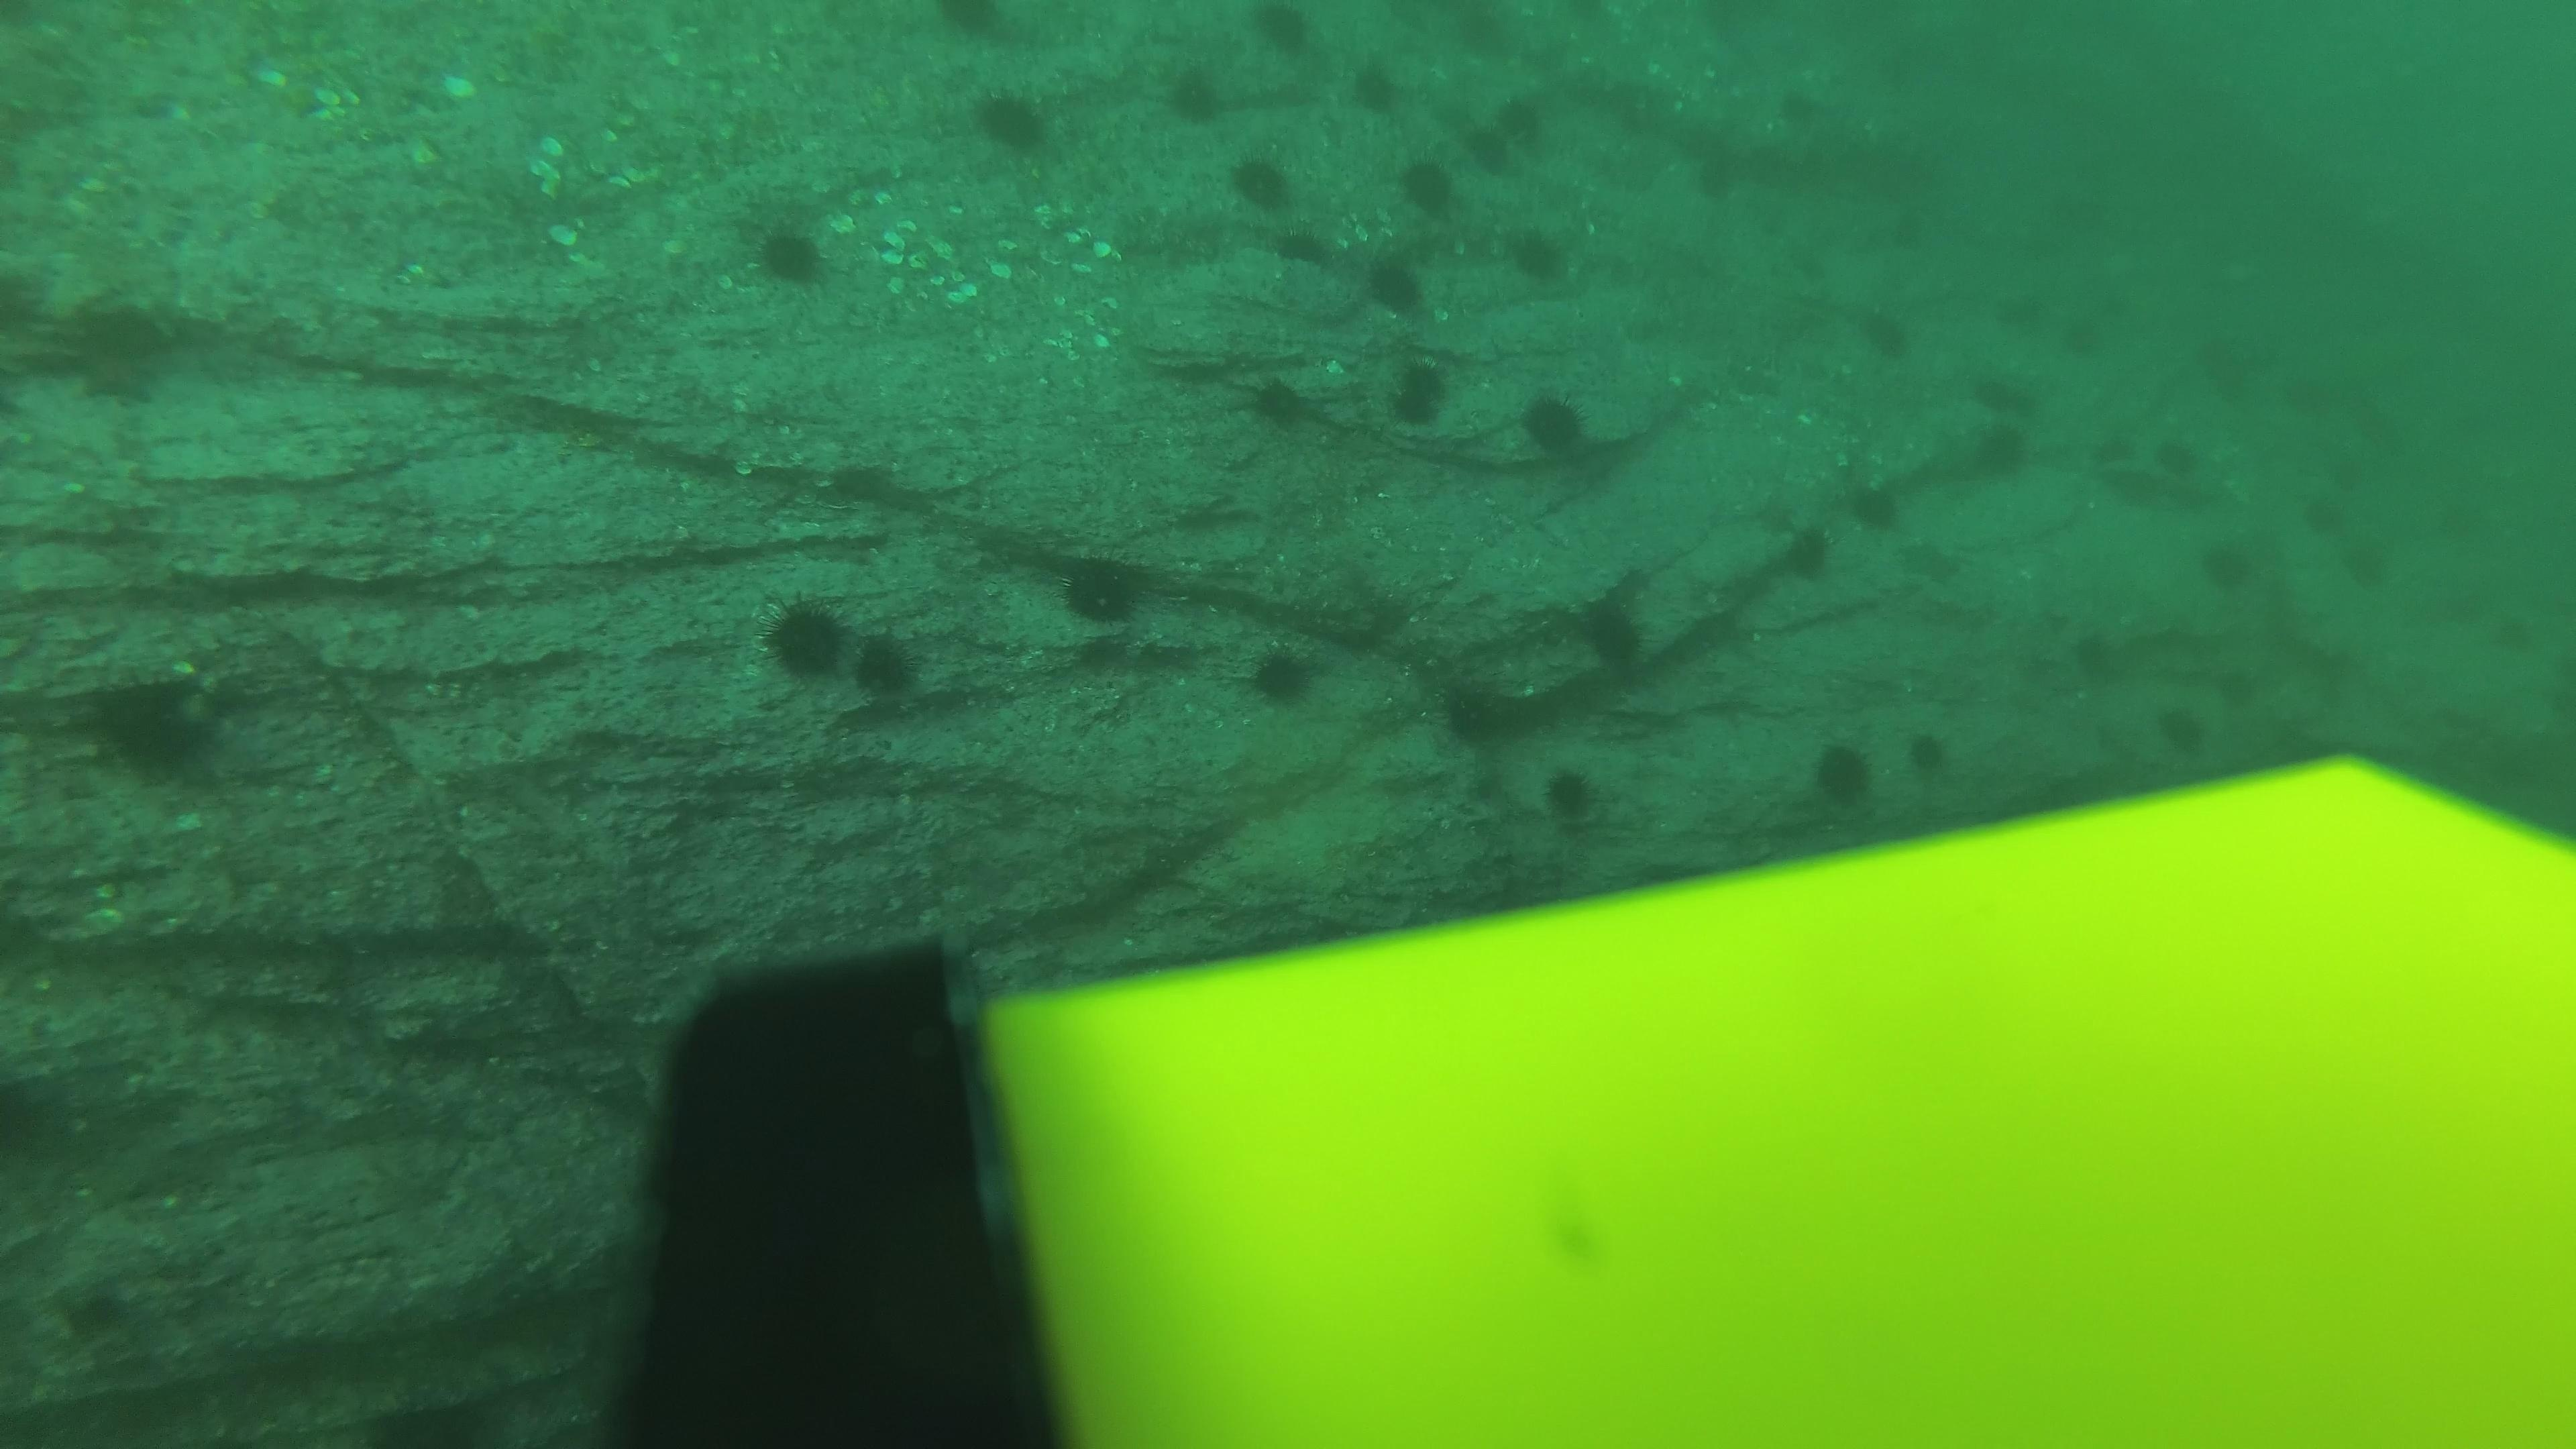echinus: (76, 663, 232, 786), (1049, 547, 1155, 633), (752, 598, 855, 683), (835, 625, 929, 711), (1571, 589, 1658, 681), (741, 211, 837, 294), (964, 80, 1062, 161), (1511, 384, 1599, 465), (1237, 637, 1327, 715), (1433, 671, 1520, 750), (1801, 732, 1882, 812), (1534, 759, 1612, 832), (1502, 221, 1578, 290), (1224, 145, 1299, 214), (1157, 60, 1231, 129), (1238, 372, 1316, 435), (1361, 249, 1431, 318), (1392, 150, 1461, 219), (1244, 0, 1320, 62), (1775, 518, 1840, 586), (1840, 472, 1907, 536), (1962, 426, 2035, 476), (2153, 709, 2224, 759), (2197, 667, 2268, 717), (2197, 536, 2268, 586), (1902, 725, 1955, 784), (1971, 372, 2024, 412), (2318, 458, 2371, 499), (2512, 584, 2565, 625), (1884, 209, 1937, 249), (1343, 67, 1396, 108), (1458, 5, 1511, 46), (2298, 494, 2350, 534), (2341, 556, 2392, 596), (2143, 441, 2194, 481), (2089, 425, 2141, 465), (1987, 285, 2038, 326), (2058, 313, 2109, 354), (2203, 364, 2254, 405), (2431, 591, 2482, 632), (2482, 617, 2534, 658), (1688, 156, 1739, 196), (1391, 387, 1438, 430), (1399, 356, 1447, 398), (1859, 313, 1911, 352), (2281, 377, 2332, 416), (2431, 506, 2482, 545), (1491, 97, 1543, 136), (1467, 127, 1518, 166), (1767, 88, 1819, 127), (1458, 5, 1509, 44), (1279, 228, 1325, 271)
starfish: (62, 334, 173, 410)
